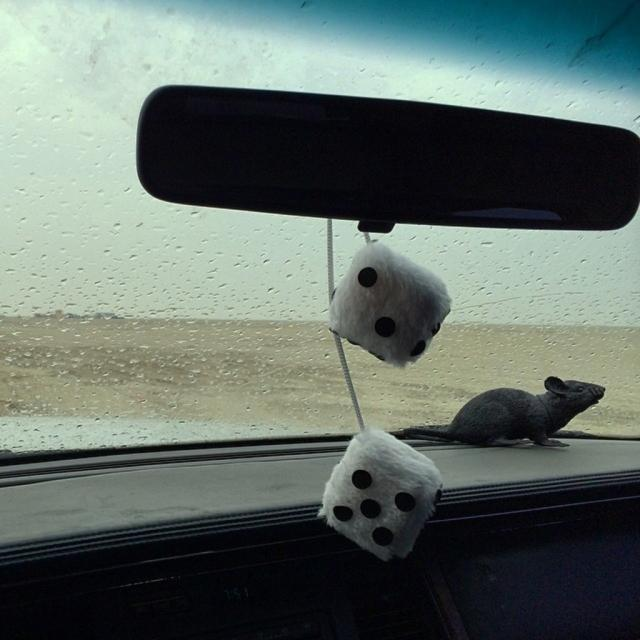rat: (445, 376, 614, 455)
